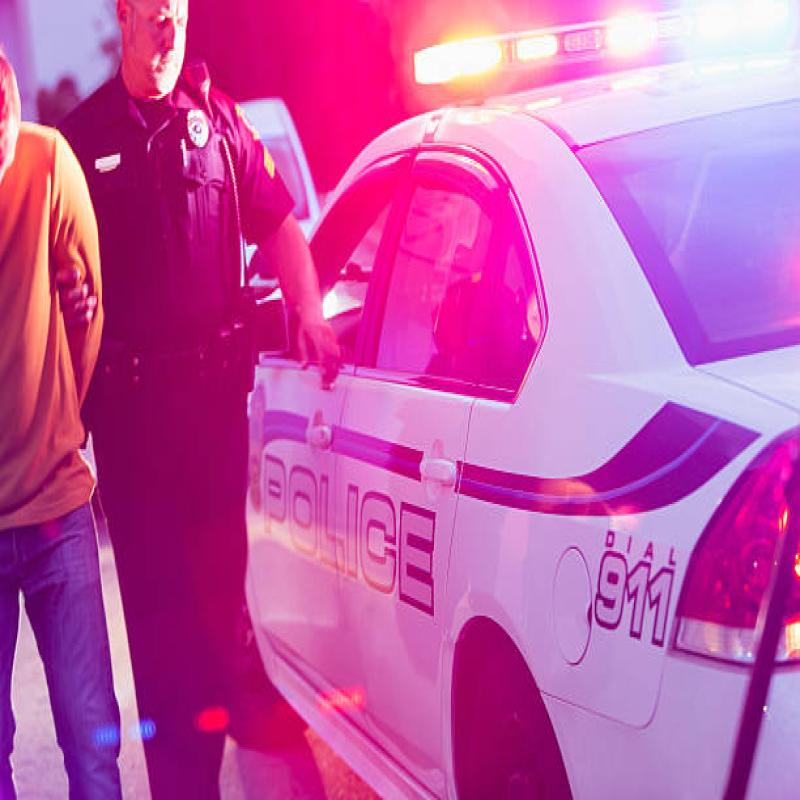AmbulanceSiren: (426, 16, 778, 102)
